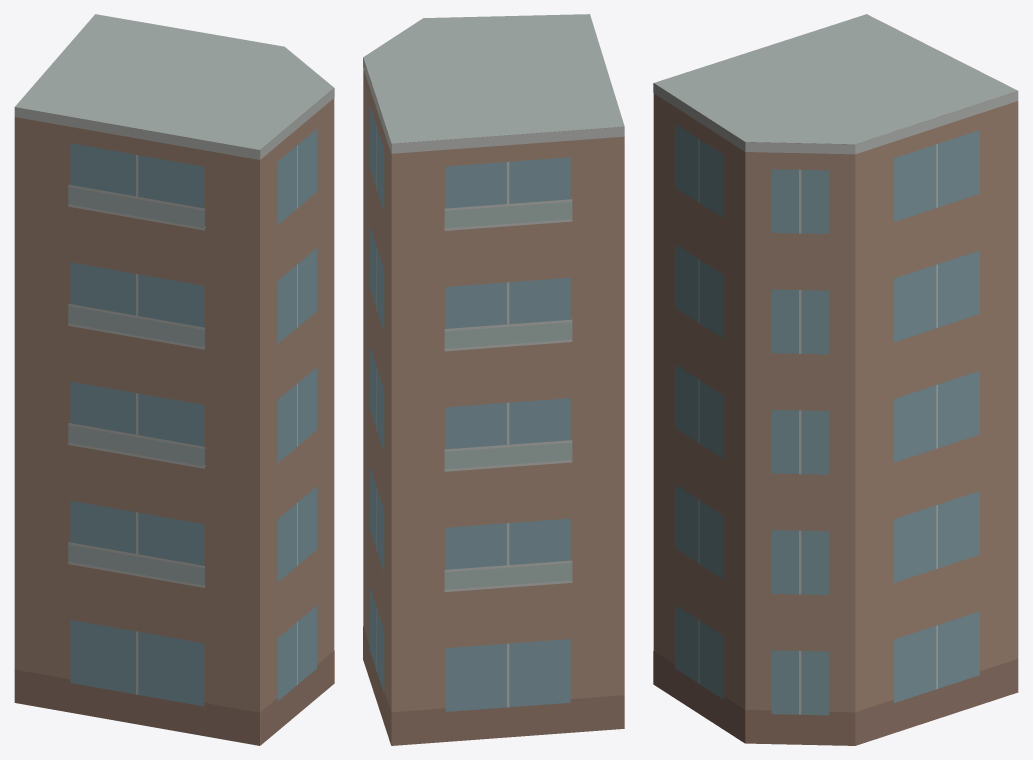
Rendered from survey-upis-33046764.glb.
3 views of the same model, side by side, from view 1: azimuth 30°, elevation 25°; view 2: azimuth 150°, elevation 25°; view 3: azimuth 270°, elevation 25° (orthographic).
Visible parts, largest first — view 1: survey-upis-33046764.tmp; view 2: survey-upis-33046764.tmp; view 3: survey-upis-33046764.tmp.
Boxes of the visible parts, <box> form: survey-upis-33046764.tmp: <box>14,14,334,745</box>; survey-upis-33046764.tmp: <box>363,14,624,745</box>; survey-upis-33046764.tmp: <box>653,14,1018,745</box>.
Bounding box in the file's own units: 6.77 × 14.55 × 8.
